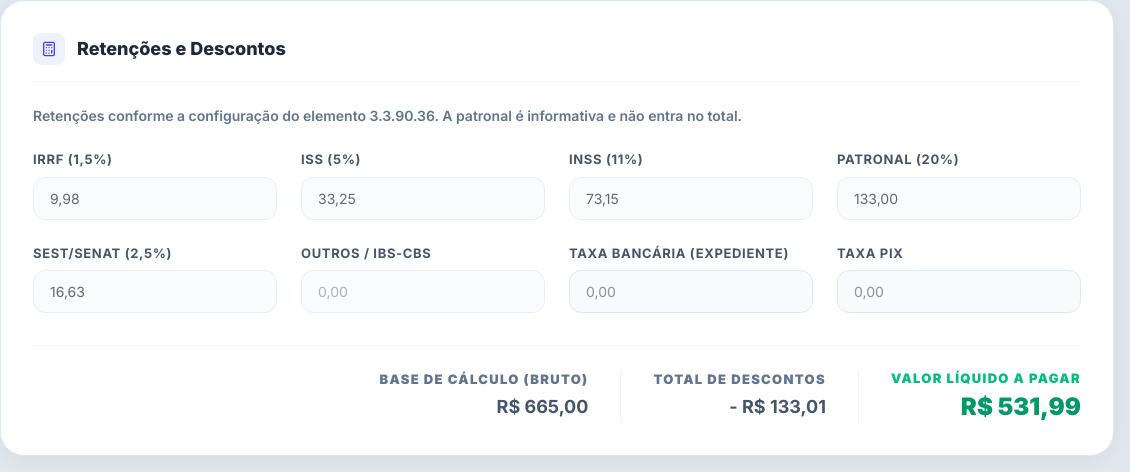
Test: OpTaxesSection — casos do README (paridade com o servidor) › Caso E: Taxa bancária 8,50 entra no total e reduz o líquido (523,49)
In the field labelled "Taxa bancária (expediente)": (691, 292) x1=569 y1=270 x2=813 y2=313, type "850"
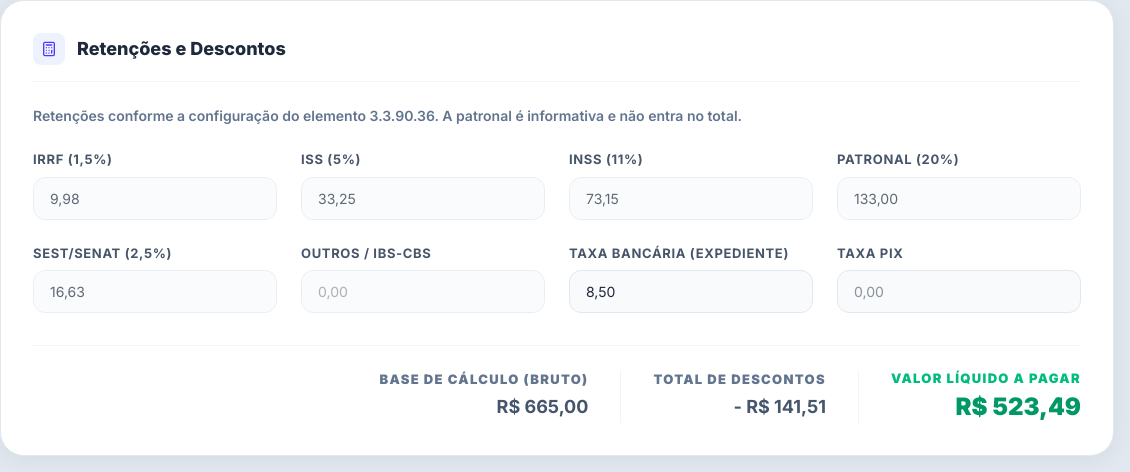
Check: the field labelled "Taxa bancária (expediente)" holds "8,50", box x1=569 y1=270 x2=813 y2=313
Check: the text with test id "resumo-liquido" reads "R$ 523,49", box x1=956 y1=392 x2=1081 y2=422
Check: the text with test id "resumo-descontos" reads "- R$ 141,51", box x1=734 y1=396 x2=826 y2=417
